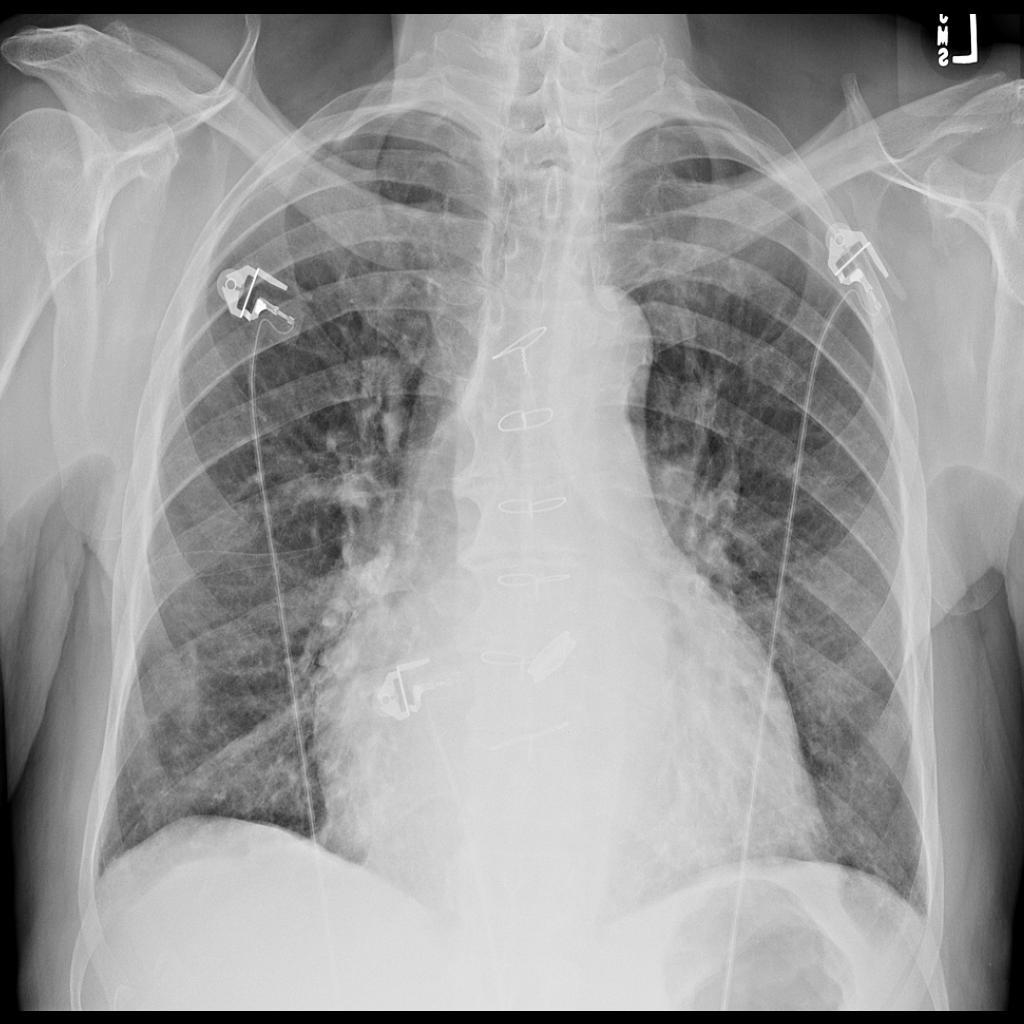Nodule: (163, 656, 207, 725)
